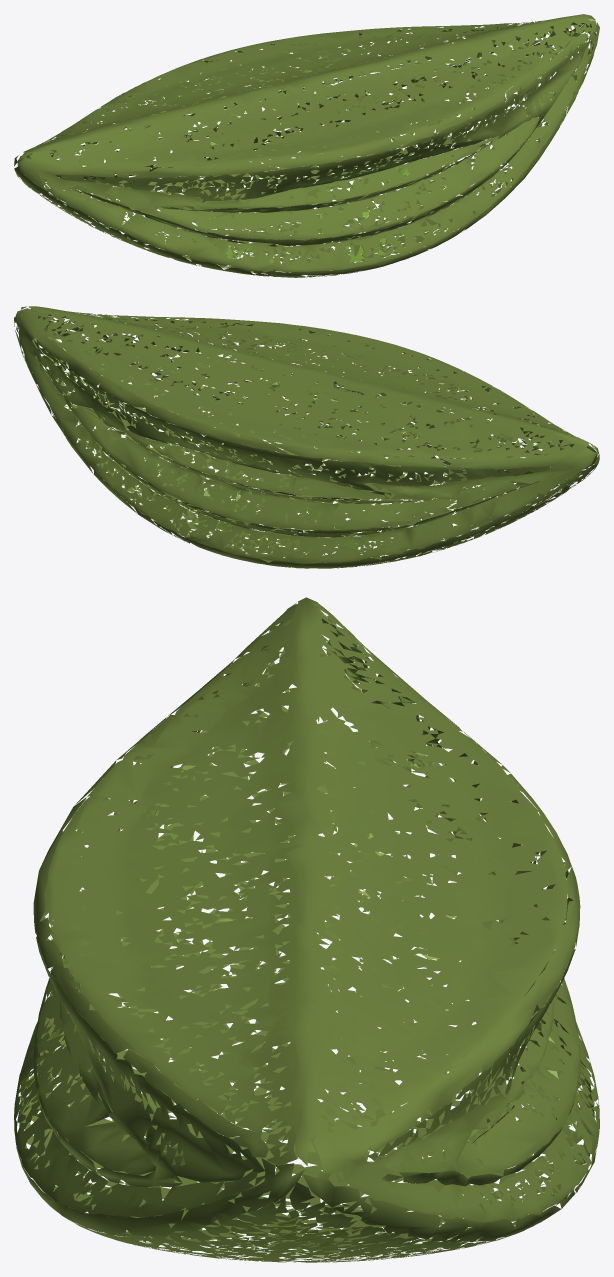
The model's file is leaf.glb.
3 renders of one model, top to bottom at view 1: azimuth 30°, elevation 25°; view 2: azimuth 150°, elevation 25°; view 3: azimuth 270°, elevation 25°, orthographic. The views are drawn at different scales.
Size of the model in its own units: 0.08 by 0.0201 by 0.0351.
Materials: 1 (1 with a texture image).
